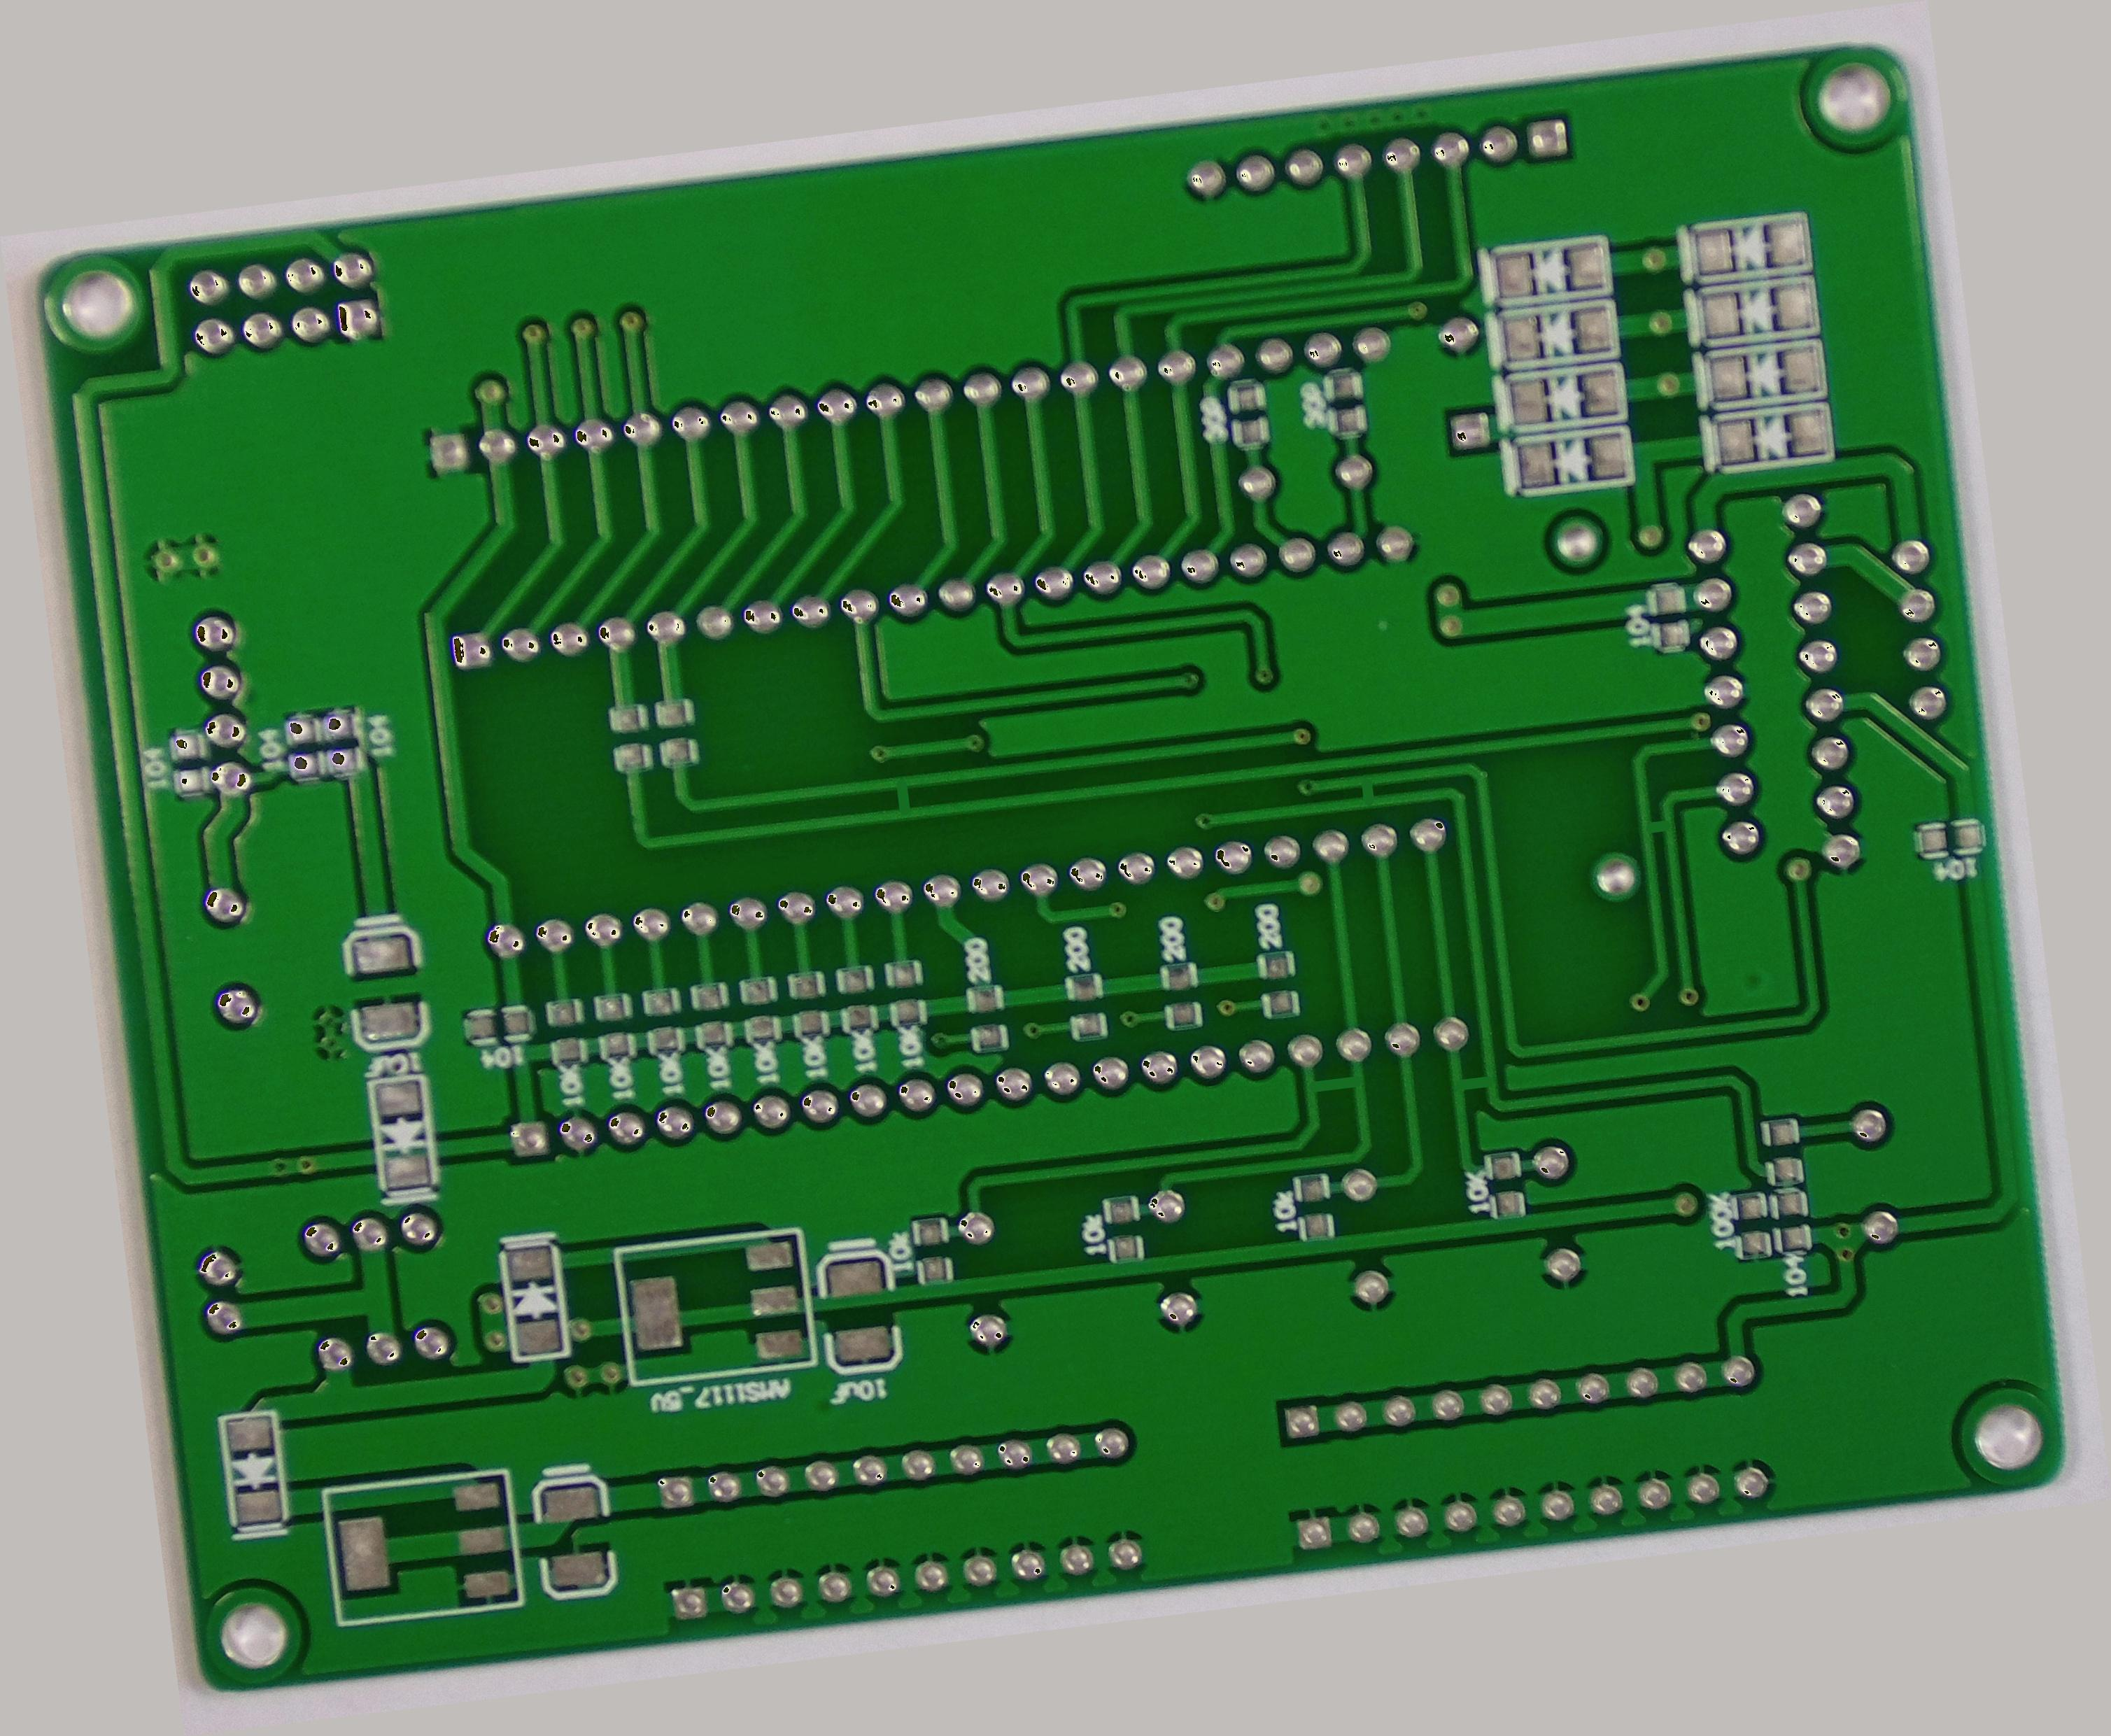short: (1292, 1056, 1380, 1108), (877, 759, 931, 831), (1443, 1063, 1506, 1112), (1343, 766, 1394, 817), (1631, 807, 1687, 849)
